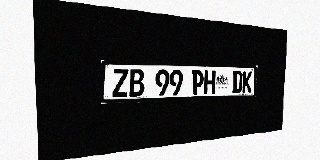9: (156, 70, 169, 96), (170, 70, 183, 95)
B: (129, 69, 144, 97)
D: (232, 71, 243, 93)
H: (203, 70, 215, 94)
K: (242, 71, 252, 93)
P: (191, 70, 204, 95)
Z: (112, 69, 128, 97)
